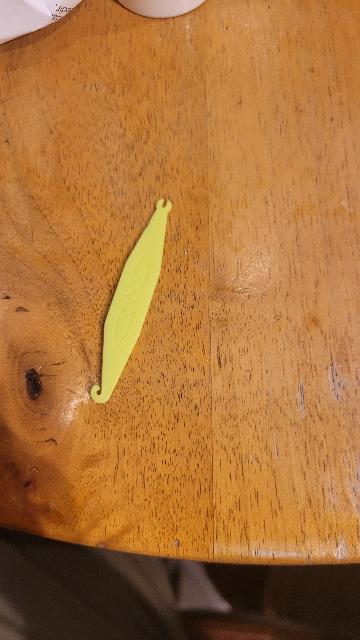Plastik: (83, 195, 187, 410)
